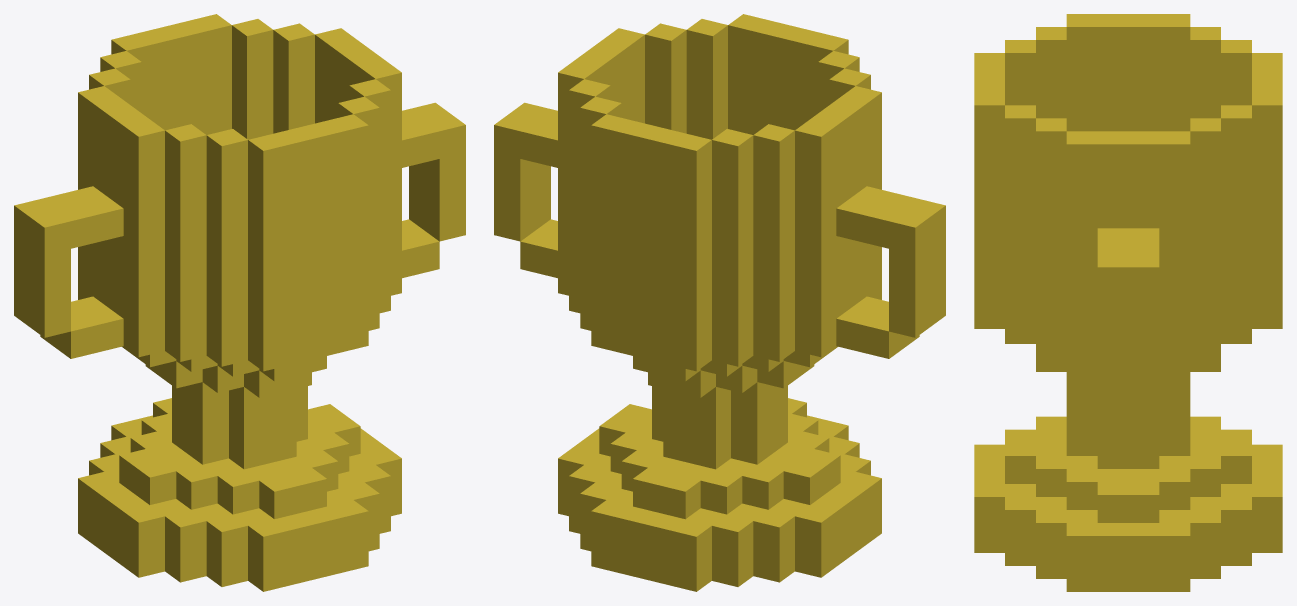
The model's file is gold.obj.
3 views of the same model, side by side, from view 1: azimuth 30°, elevation 25°; view 2: azimuth 150°, elevation 25°; view 3: azimuth 270°, elevation 25° (orthographic).
Size of the model in its own units: 1.6 by 1.6 by 1.
1 material, 1 textured.
